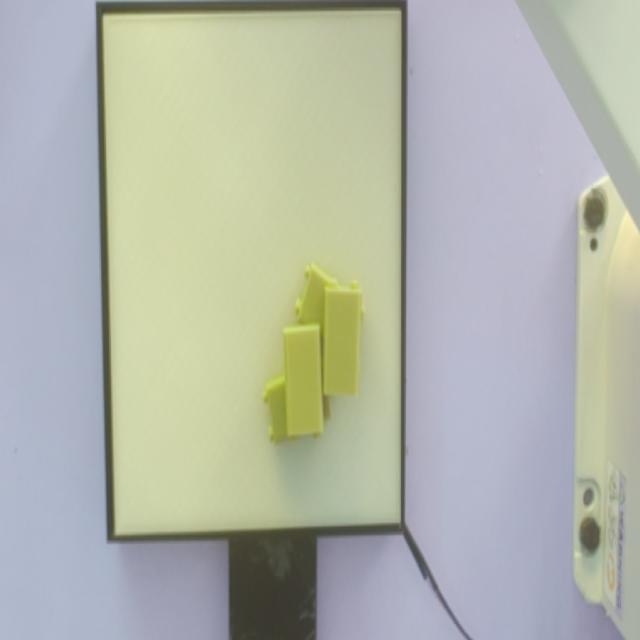bateria: (283, 323, 323, 440), (324, 280, 361, 396)
mesa: (96, 1, 408, 543)
